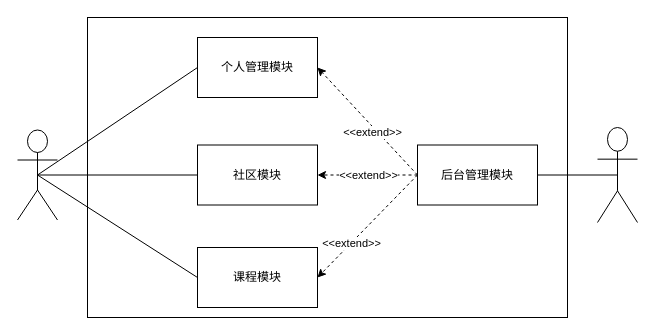
The diagram is 655 pixels wide and 335 high, and some of its shapes have lost their labels. Each missing label, with the centre of its shape:
用户: (x=37, y=174)
管理员: (x=617, y=174)
